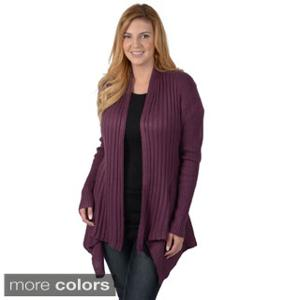C_cardigan sweater: (76, 75, 204, 261)
